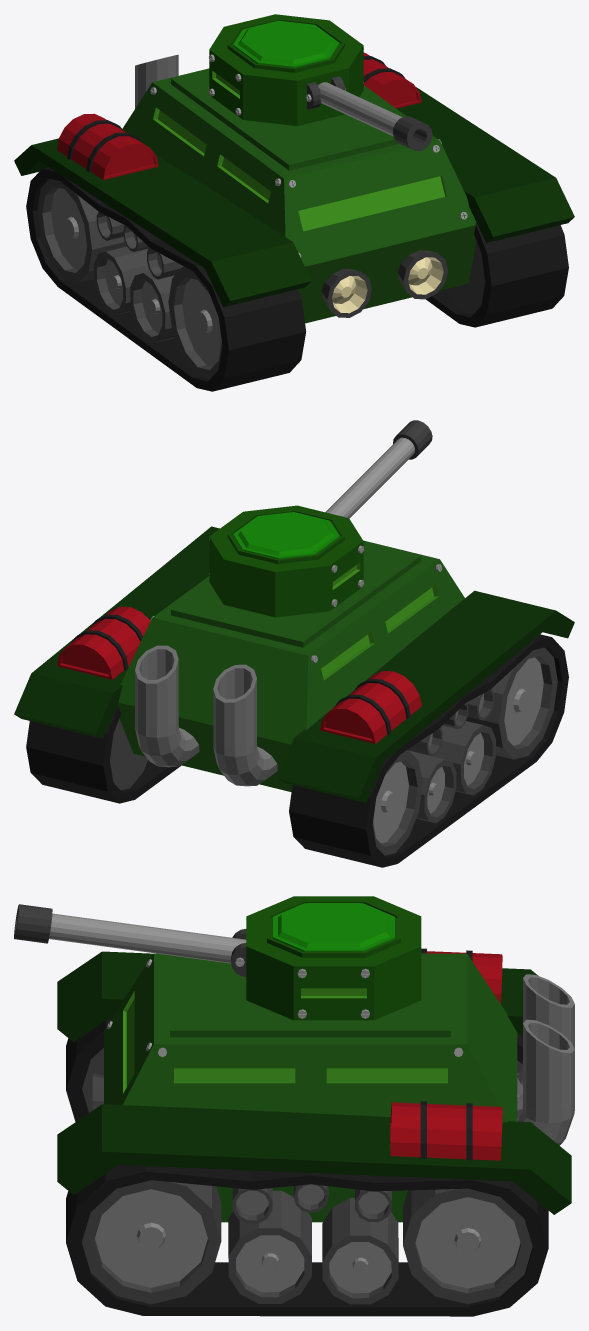
The model's file is TankCartoon.fbx.
The picture shows the model from 3 angles, top to bottom: view 1: azimuth 30°, elevation 25°; view 2: azimuth 150°, elevation 25°; view 3: azimuth 270°, elevation 25°; orthographic projection. The views are drawn at different scales.
Visible parts, largest first — view 1: Cube; view 2: Cube; view 3: Cube.
Part boxes in pixels (<box>): Cube: <box>14,14,574,391</box>; Cube: <box>14,420,574,867</box>; Cube: <box>14,896,574,1316</box>.
Size of the model in its own units: 302 by 220 by 358.
